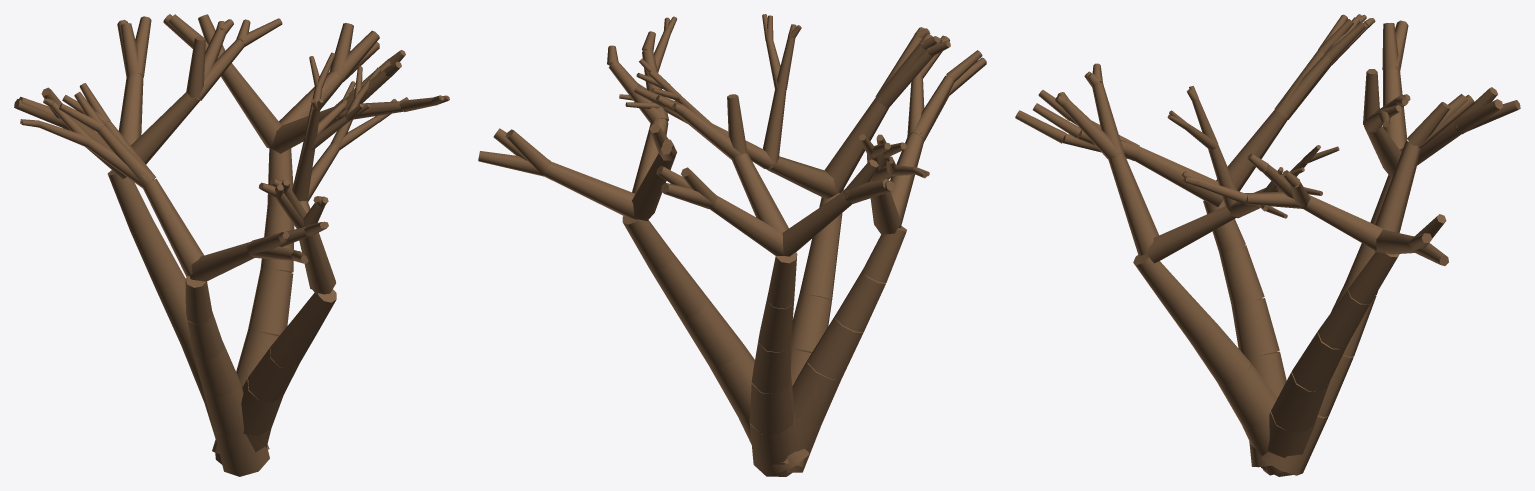
Rendered from perzsafa-bokorfa-tel.glb.
3 renders of one model, left to right at view 1: azimuth 30°, elevation 25°; view 2: azimuth 150°, elevation 25°; view 3: azimuth 270°, elevation 25°, orthographic. The views are drawn at different scales.
Visible parts, largest first — view 1: to-2-3, gally-0-2 (×3), gally-6-1, to-4-4, gally-5-1, gally-0-1, gally-6-2 (×2), to-1-1, to-3-3, to-1-3, to-1-2, gally-7-2 (×2) (+20 smaller); view 2: to-2-3, gally-9-1, to-1-2, to-1-3, gally-3-1, to-2-4, to-4-2, to-3-3, to-2-2, gally-0-2 (×2), gally-0-1, to-3-4 (+24 smaller); view 3: gally-3-1, to-3-2, to-1-3, to-2-2, gally-5-1, gally-3-2 (×2), to-3-3, gally-7-1, to-2-3, to-1-4, gally-6-1, to-2-4 (+24 smaller).
Boxes of the visible parts, box(x1,y1,x2,y2) form: to-2-3: box(248, 268, 293, 336); gally-0-2 (×3): box(186, 28, 244, 100); gally-6-1: box(143, 178, 204, 276); to-4-4: box(131, 222, 184, 290); gally-5-1: box(221, 63, 281, 148); gally-0-1: box(130, 92, 200, 164); gally-6-2 (×2): box(86, 125, 155, 188); to-1-1: box(214, 432, 269, 476); to-3-3: box(248, 348, 299, 402); to-1-3: box(194, 341, 238, 397); to-1-2: box(204, 374, 243, 436); gally-7-2 (×2): box(292, 143, 339, 201); to-2-3: box(679, 297, 742, 367); gally-9-1: box(544, 161, 638, 219); to-1-2: box(792, 358, 841, 425); to-1-3: box(807, 314, 863, 379); gally-3-1: box(824, 97, 889, 193); to-2-4: box(650, 253, 707, 318); to-4-2: box(749, 375, 794, 434); to-3-3: box(791, 294, 831, 353); to-2-2: box(709, 344, 754, 418); gally-0-2 (×2): box(679, 94, 747, 159); gally-0-1: box(731, 152, 788, 232); to-3-4: box(799, 240, 838, 301); gally-3-1: box(1108, 153, 1159, 256); to-3-2: box(1217, 364, 1277, 428); to-1-3: box(1231, 298, 1279, 357); to-2-2: box(1271, 371, 1329, 433); gally-5-1: box(1375, 141, 1421, 232); gally-3-2 (×2): box(1061, 82, 1124, 160); to-3-3: box(1190, 325, 1251, 386); gally-7-1: box(1146, 206, 1236, 263); to-2-3: box(1292, 331, 1348, 391); to-1-4: box(1219, 245, 1264, 305); gally-6-1: box(1216, 109, 1287, 191); to-2-4: box(1317, 290, 1372, 348).
Bounding box in the file's own units: 4.78 × 4.54 × 5.17.
